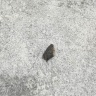Dog: (43, 43, 55, 61)
